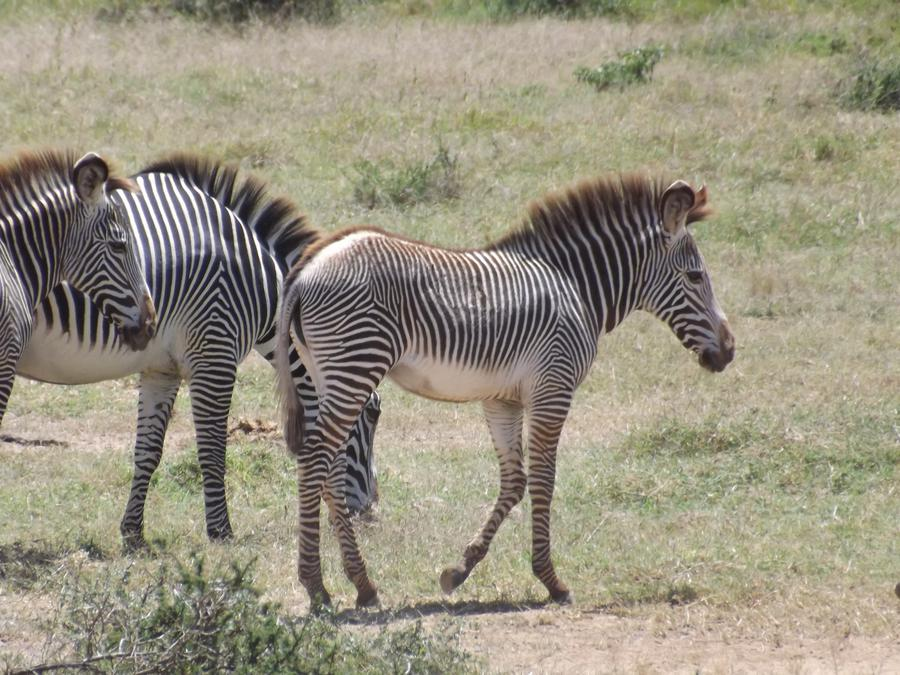zebra_grevys: (275, 211, 578, 398)
